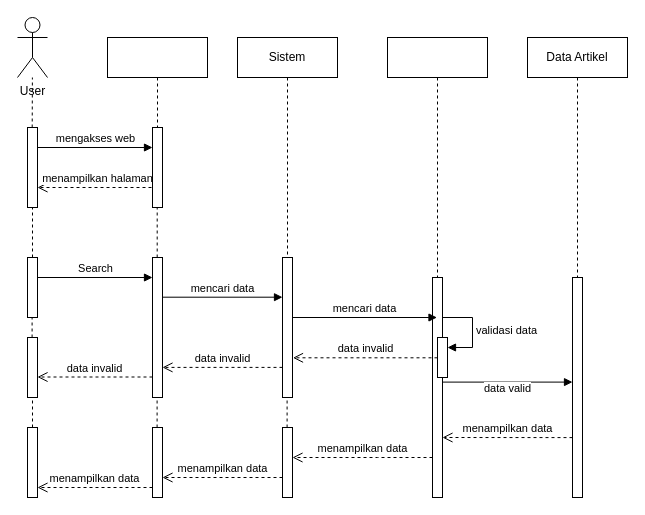
Some shapes in this 645 by 515 pixel diagram are drawn without their labels. The centre of each missing label's shape, as x and y in pixels:
"Database" belongs at (x=437, y=267).
"Website" belongs at (x=157, y=82).
